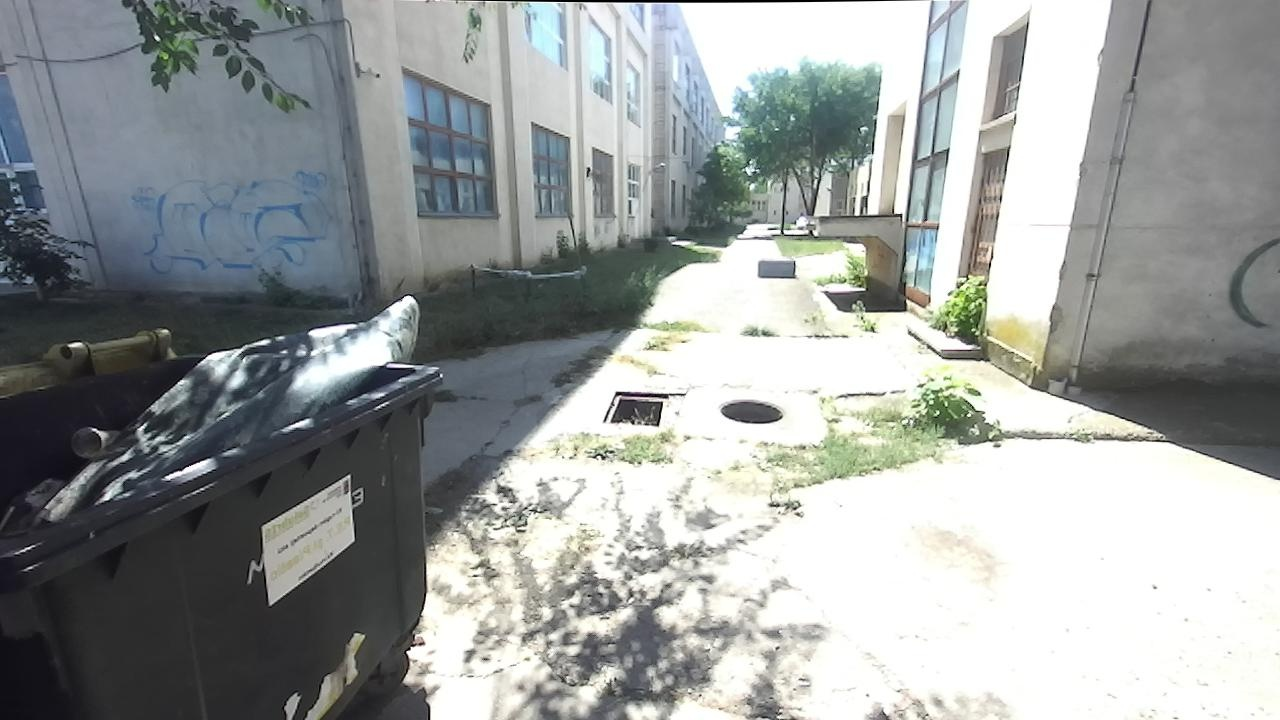drain: (599, 389, 668, 428), (712, 394, 789, 426)
